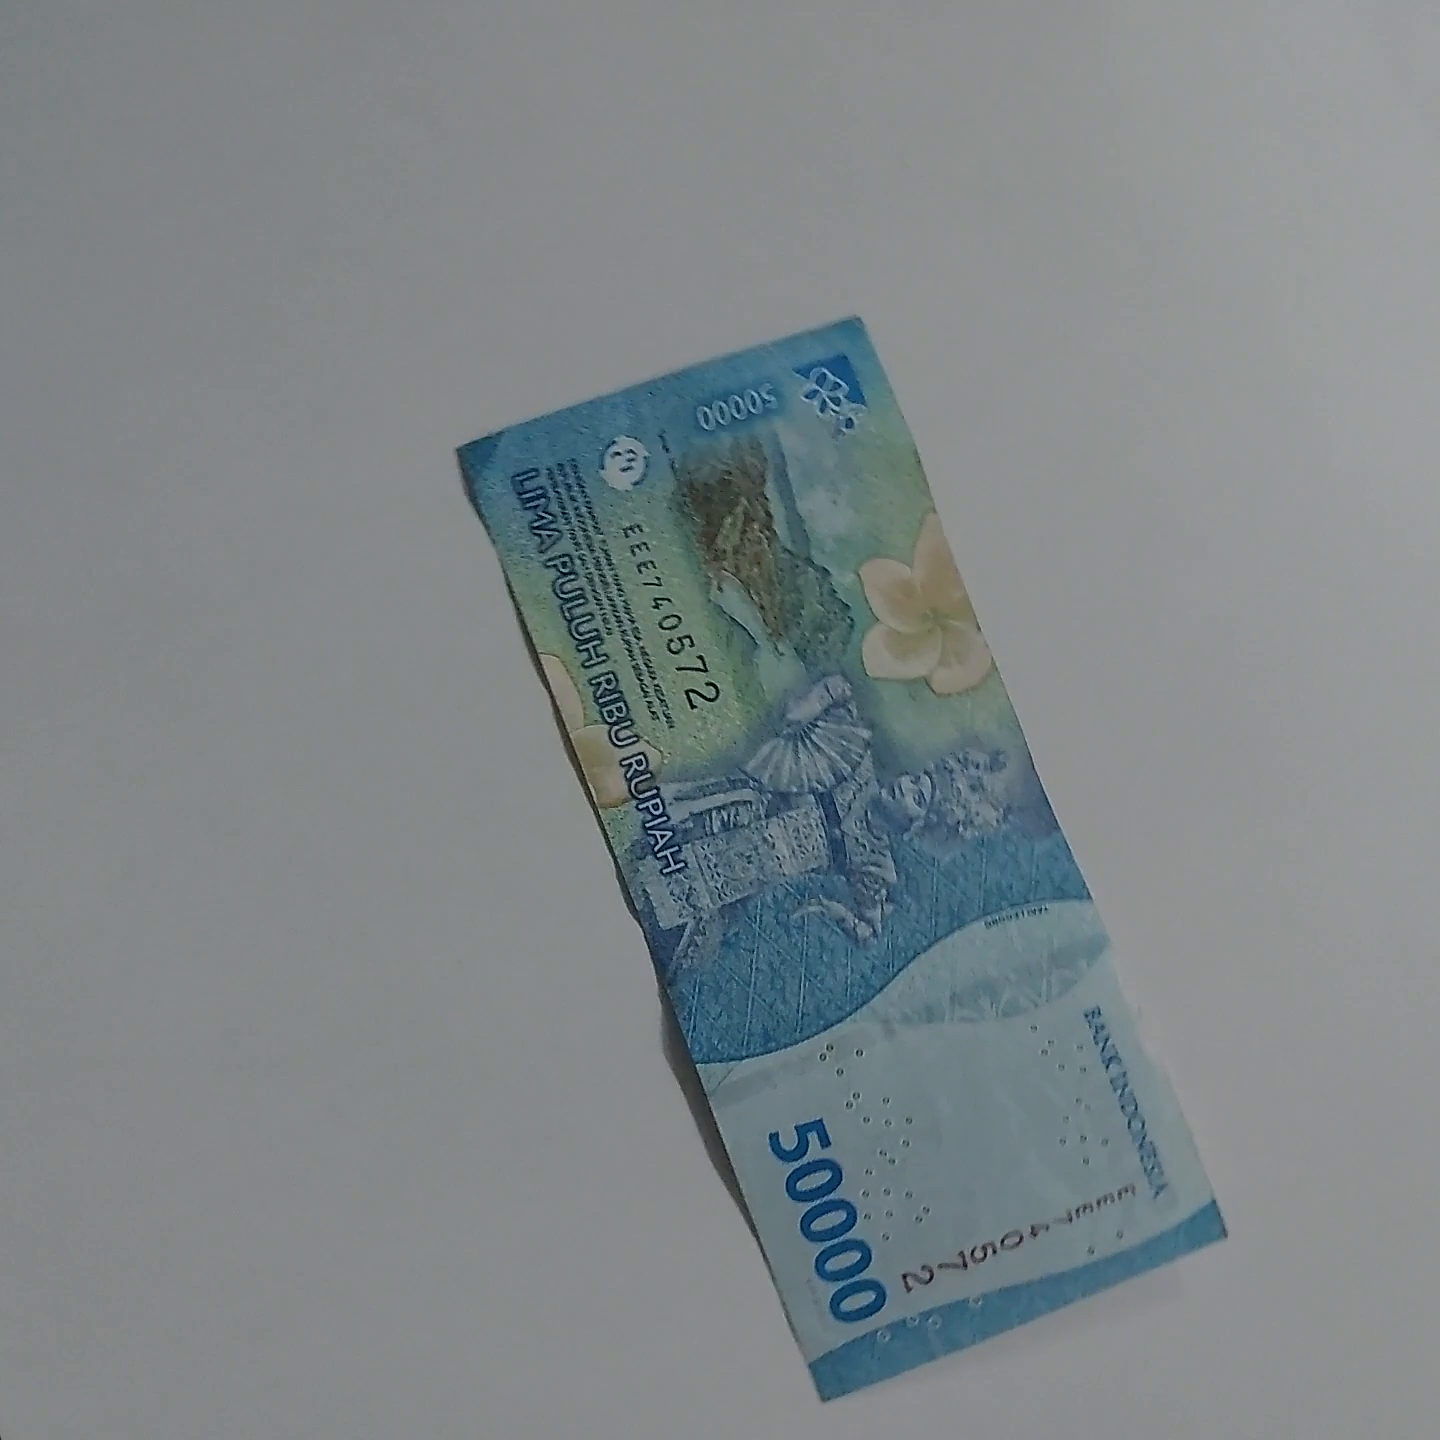50k: (418, 299, 1222, 1395)
